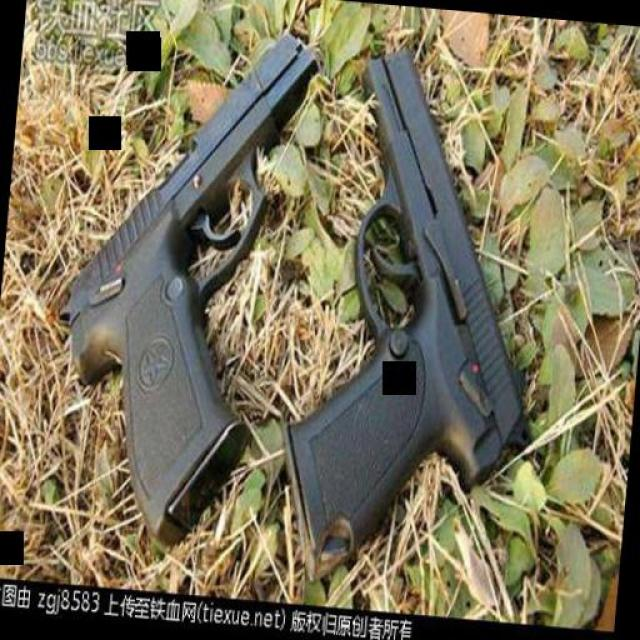gun: (35, 11, 323, 560), (269, 39, 556, 579)
